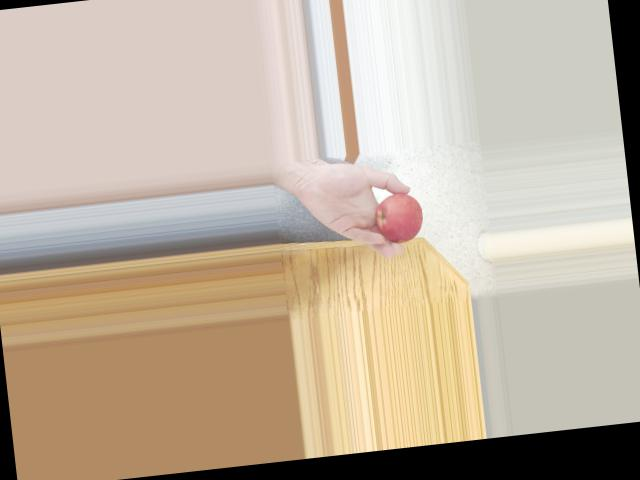apple: (374, 193, 428, 246)
